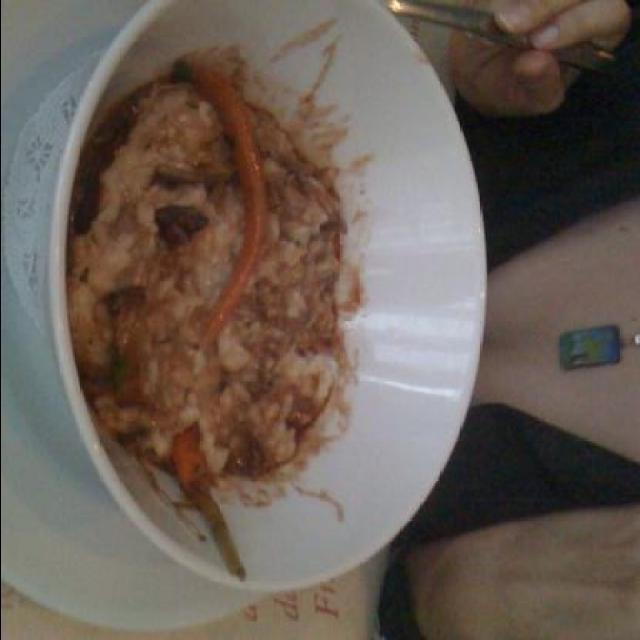Risotto: (68, 66, 360, 482)
